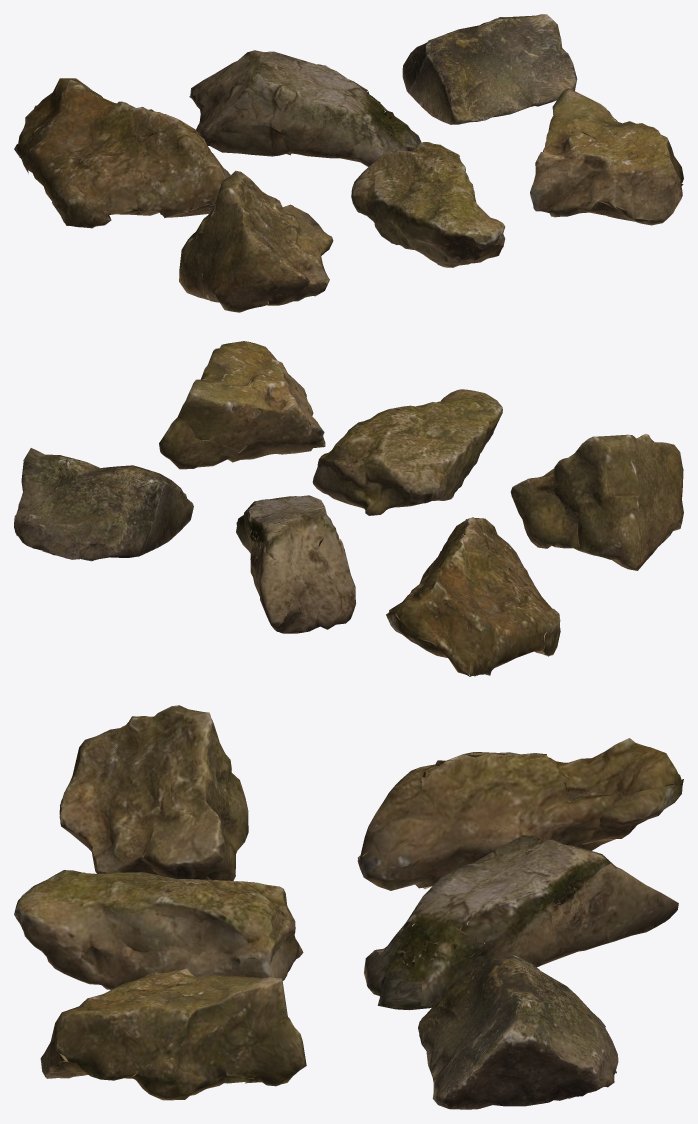
Rendered from rock_moss_set_01.glb.
3 renders of one model, top to bottom at view 1: azimuth 30°, elevation 25°; view 2: azimuth 150°, elevation 25°; view 3: azimuth 270°, elevation 25°, orthographic. The views are drawn at different scales.
Visible parts, largest first — view 1: rock_moss_set_01_rock01, rock_moss_set_01_rock02, rock_moss_set_01_rock06, rock_moss_set_01_rock04, rock_moss_set_01_rock03, rock_moss_set_01_rock05; view 2: rock_moss_set_01_rock04, rock_moss_set_01_rock01, rock_moss_set_01_rock05, rock_moss_set_01_rock03, rock_moss_set_01_rock06, rock_moss_set_01_rock02; view 3: rock_moss_set_01_rock01, rock_moss_set_01_rock02, rock_moss_set_01_rock05, rock_moss_set_01_rock04, rock_moss_set_01_rock06, rock_moss_set_01_rock03.
Part boxes in pixels (x1=…): rock_moss_set_01_rock01: x1=14, y1=78, x2=230, y2=228; rock_moss_set_01_rock02: x1=189, y1=50, x2=421, y2=166; rock_moss_set_01_rock06: x1=530, y1=88, x2=683, y2=225; rock_moss_set_01_rock04: x1=179, y1=170, x2=333, y2=312; rock_moss_set_01_rock03: x1=402, y1=14, x2=577, y2=124; rock_moss_set_01_rock05: x1=351, y1=142, x2=505, y2=267; rock_moss_set_01_rock04: x1=510, y1=433, x2=683, y2=570; rock_moss_set_01_rock01: x1=386, y1=517, x2=560, y2=676; rock_moss_set_01_rock05: x1=312, y1=389, x2=502, y2=515; rock_moss_set_01_rock03: x1=14, y1=448, x2=193, y2=561; rock_moss_set_01_rock06: x1=159, y1=341, x2=325, y2=469; rock_moss_set_01_rock02: x1=236, y1=495, x2=356, y2=633; rock_moss_set_01_rock01: x1=357, y1=738, x2=683, y2=890; rock_moss_set_01_rock02: x1=364, y1=835, x2=678, y2=1010; rock_moss_set_01_rock05: x1=14, y1=870, x2=303, y2=989; rock_moss_set_01_rock04: x1=59, y1=705, x2=248, y2=880; rock_moss_set_01_rock06: x1=40, y1=968, x2=306, y2=1100; rock_moss_set_01_rock03: x1=418, y1=955, x2=618, y2=1109.
Bounding box in the file's own units: 7.99 × 1.77 × 6.96.
1 material, 1 textured.
